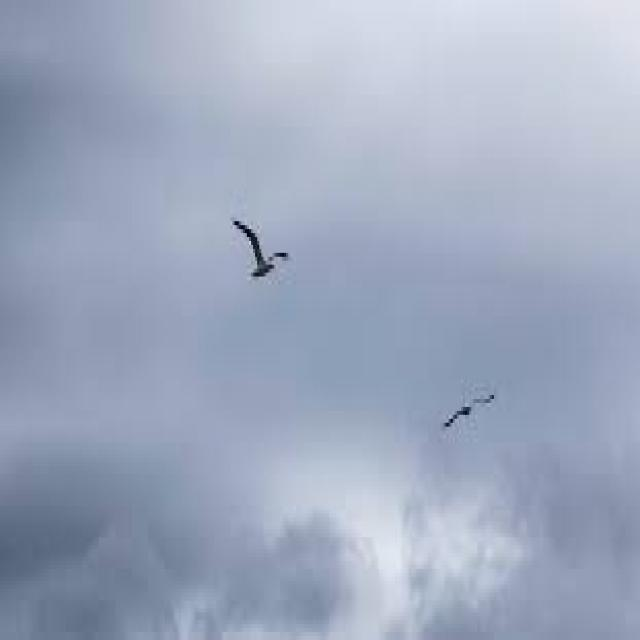bird: (412, 306, 604, 496), (215, 162, 345, 300)
